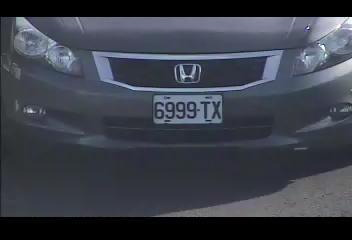plate: (150, 93, 224, 125)
